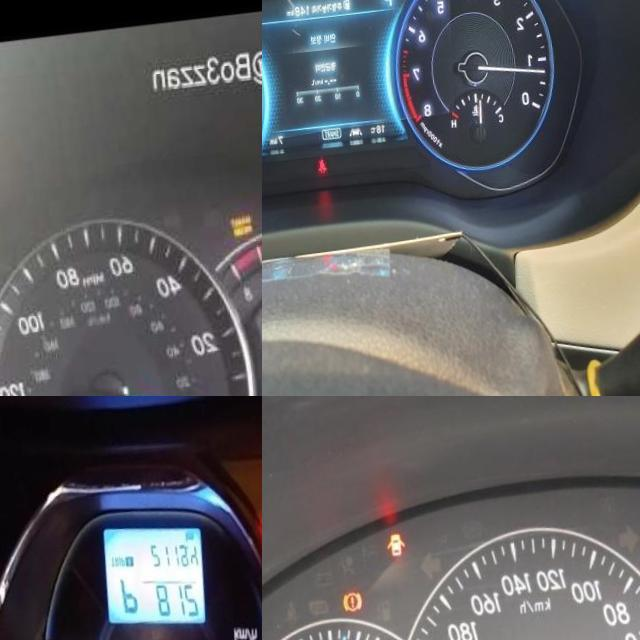LaneCenteringOff: (344, 133, 357, 144)
